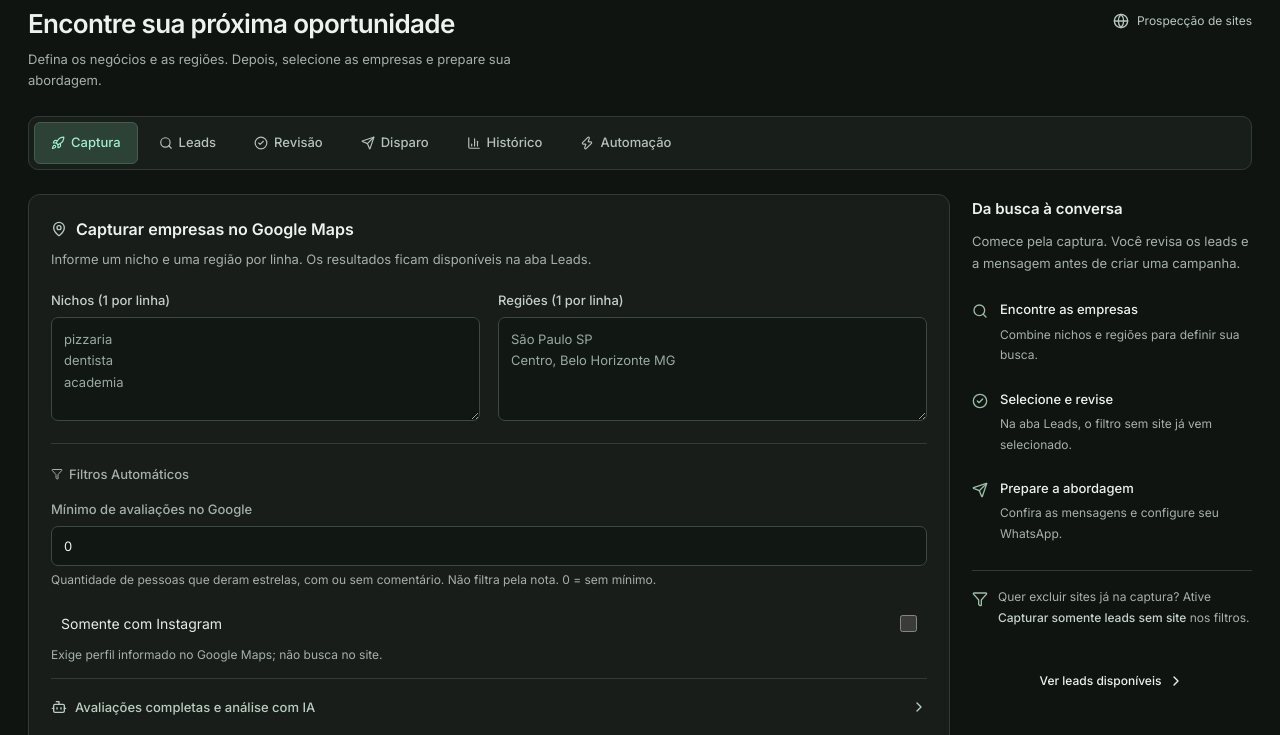
Scenario: mínimo de avaliações na Prospecção Sites › mantém o filtro Instagram acessível, desligado por padrão e independente entre formulários
This screenshot has width=1280, height=735.
Expected: the checkbox labelled "Somente com Instagram" is not checked, [900,615,917,632]
Replace the text in the number field labelled "Mínimo de avaliações no Google" with "25": x=489, y=546 [51,526,927,566]
Click the text "Somente com Instagram": x=142, y=623 [61,615,222,632]
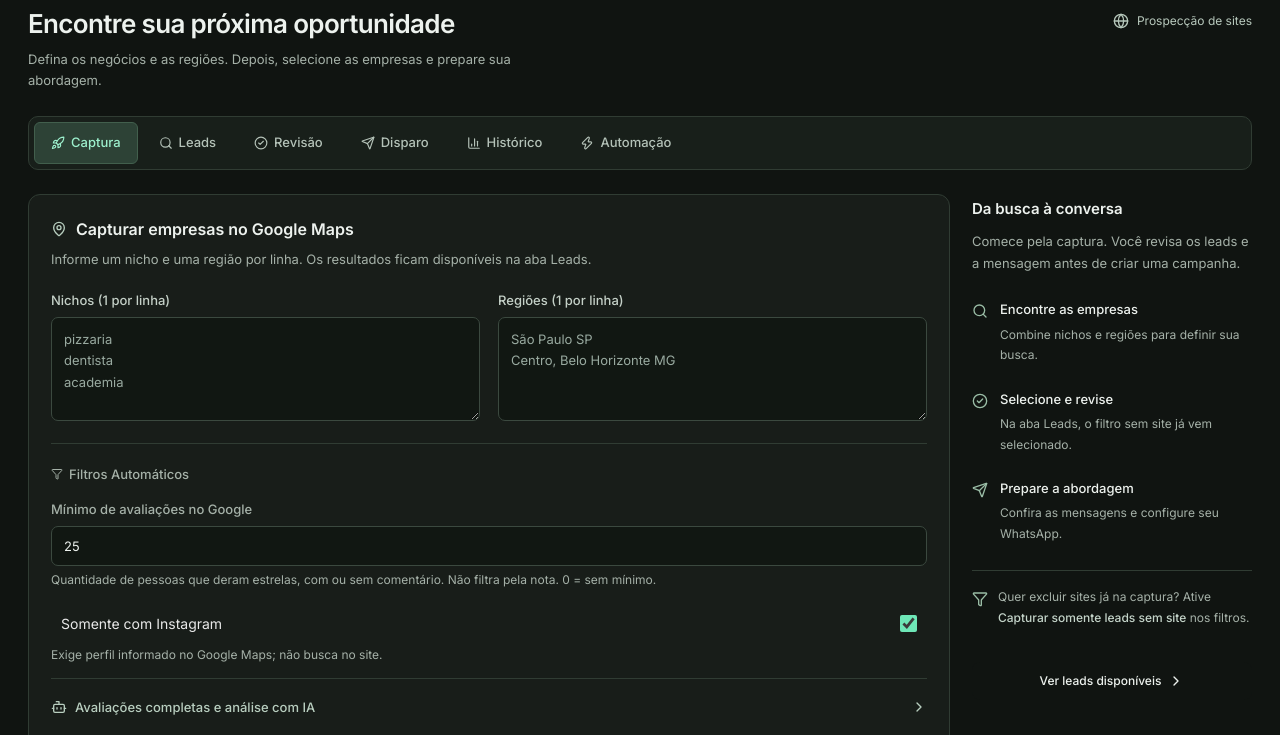
Result: the checkbox labelled "Somente com Instagram" is checked at [900,615,917,632]
Click the button "Automação": x=626, y=143 [564,122,688,164]
(page scrolled)
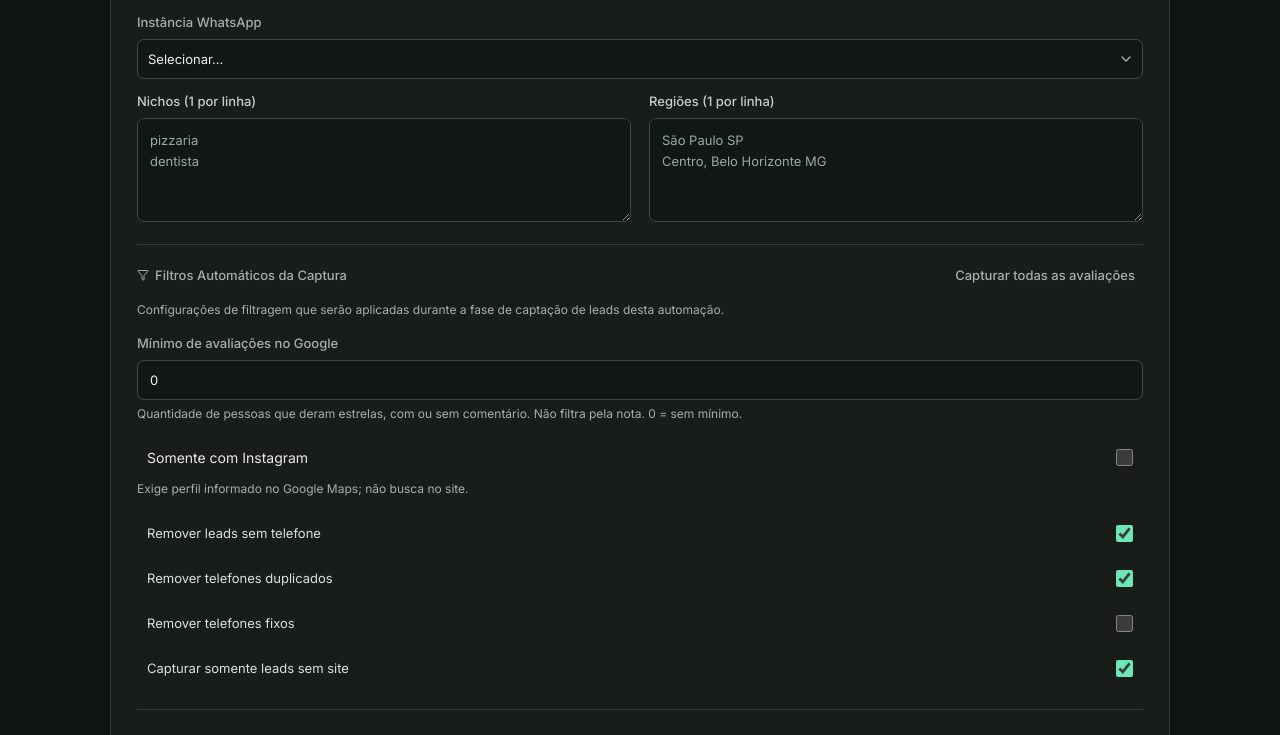
Result: the checkbox labelled "Somente com Instagram" is not checked at [1116,449,1133,466]
Replace the text in the number field labelled "Mínimo de avaliações no Google" with "50": x=640, y=380 [137,360,1143,400]
Click the text "Somente com Instagram": x=228, y=457 [147,449,308,466]
(page scrolled)
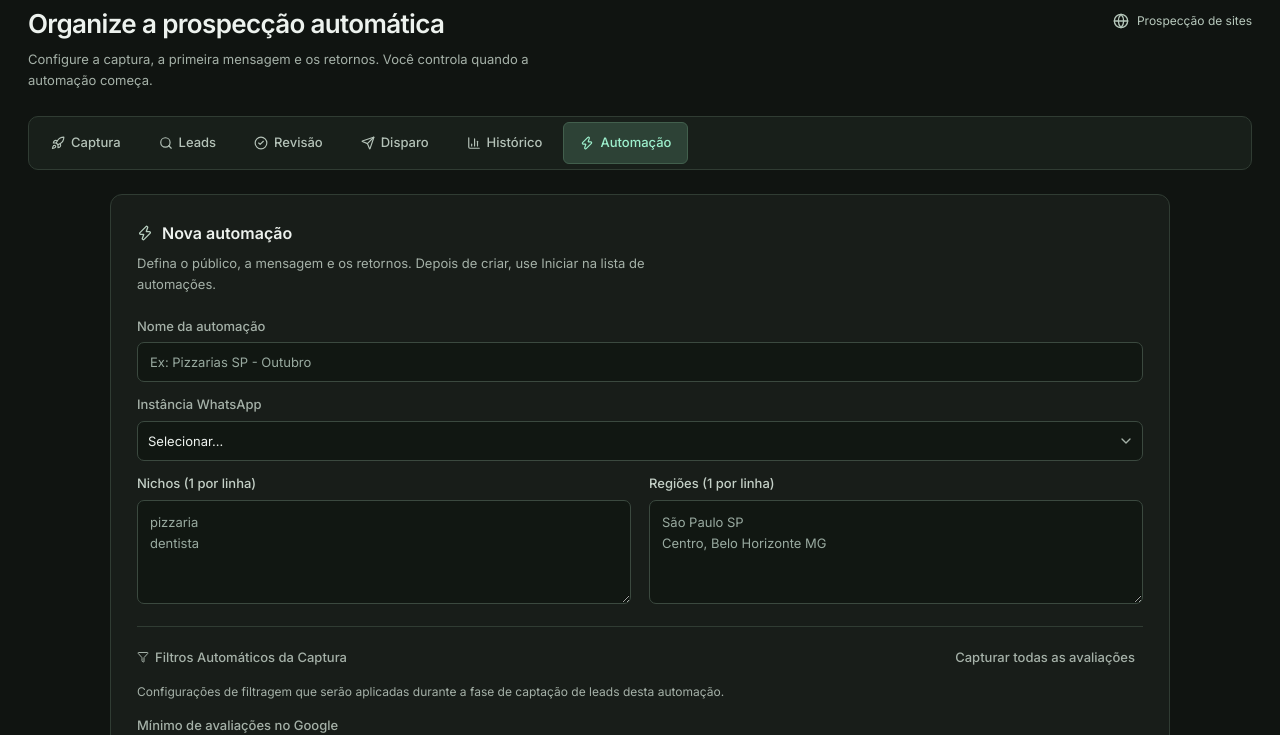
Click the button "Captura": x=86, y=143 [34,122,138,164]
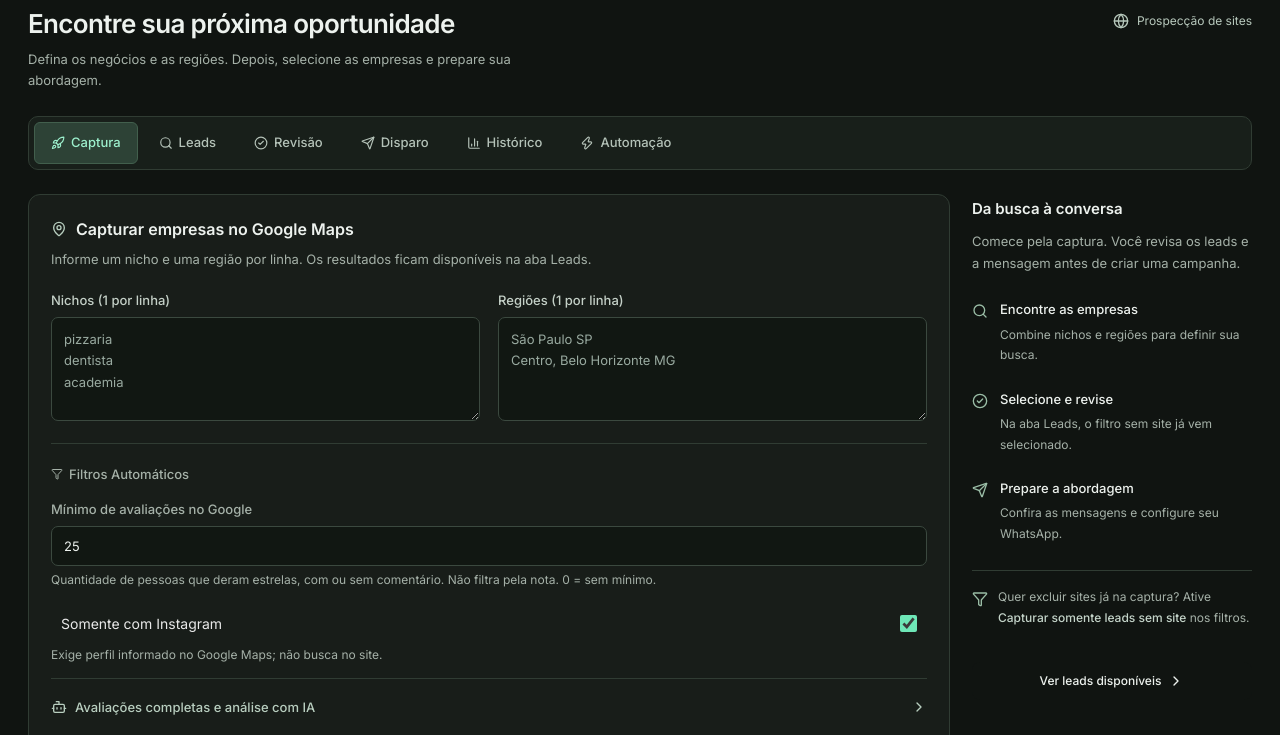
Result: the checkbox labelled "Somente com Instagram" is checked
Click the checkbox labelled "Somente com Instagram": x=908, y=624 [900,615,917,632]
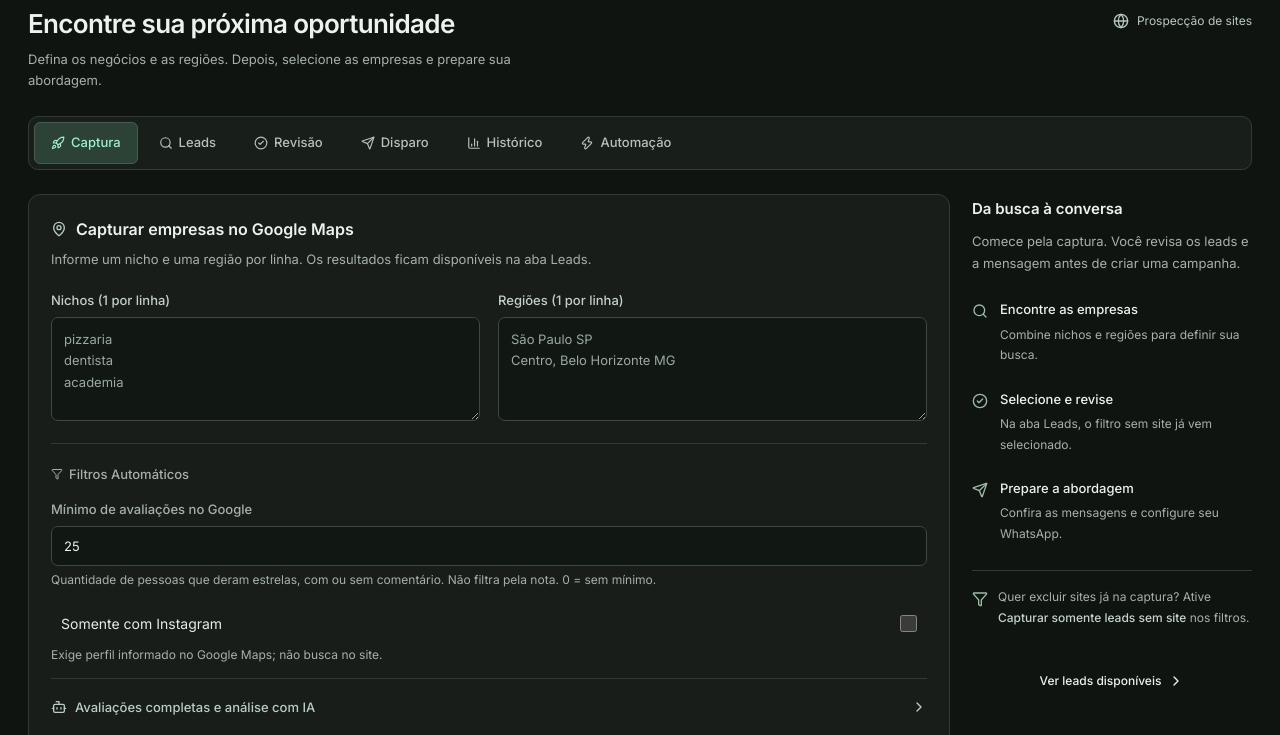
Result: the checkbox labelled "Somente com Instagram" is not checked at [900,615,917,632]
Result: the number field labelled "Mínimo de avaliações no Google" holds "25" at [51,526,927,566]
Click the button "Automação": x=626, y=143 [564,122,688,164]
(page scrolled)
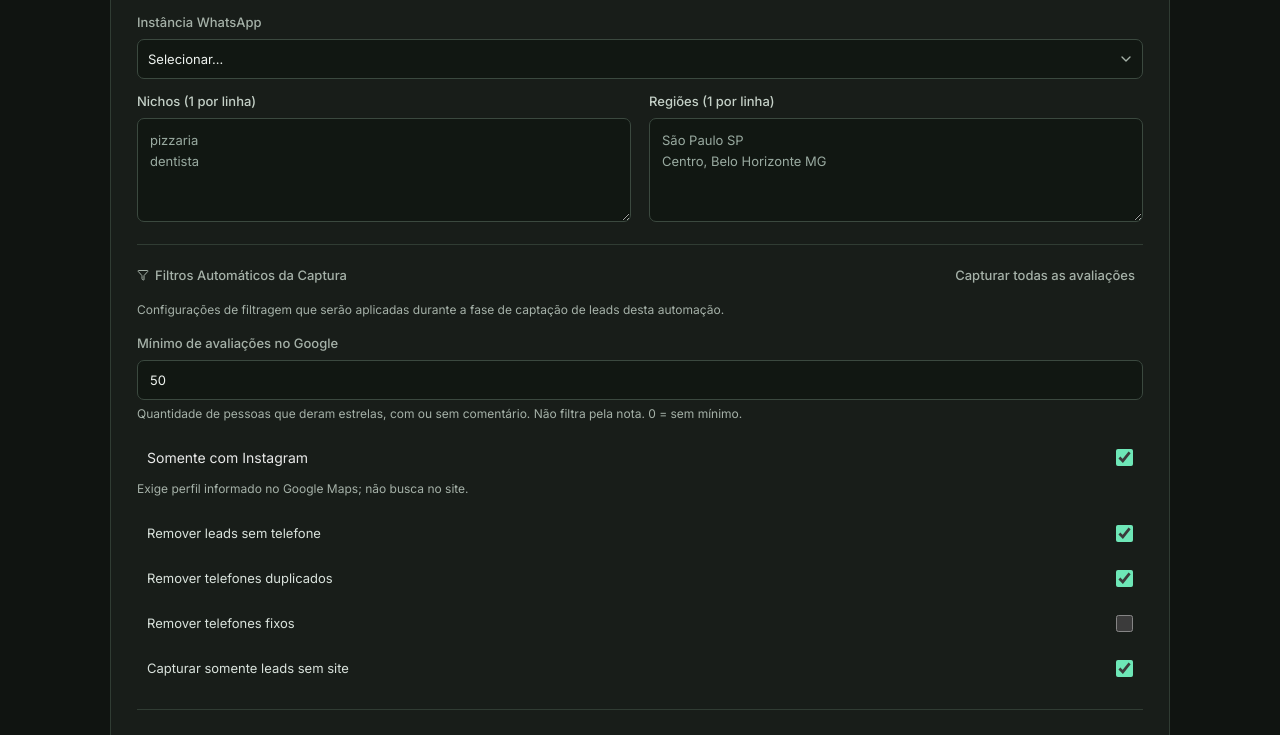
Result: the checkbox labelled "Somente com Instagram" is checked at [1116,449,1133,466]
Result: the number field labelled "Mínimo de avaliações no Google" holds "50" at [137,360,1143,400]
